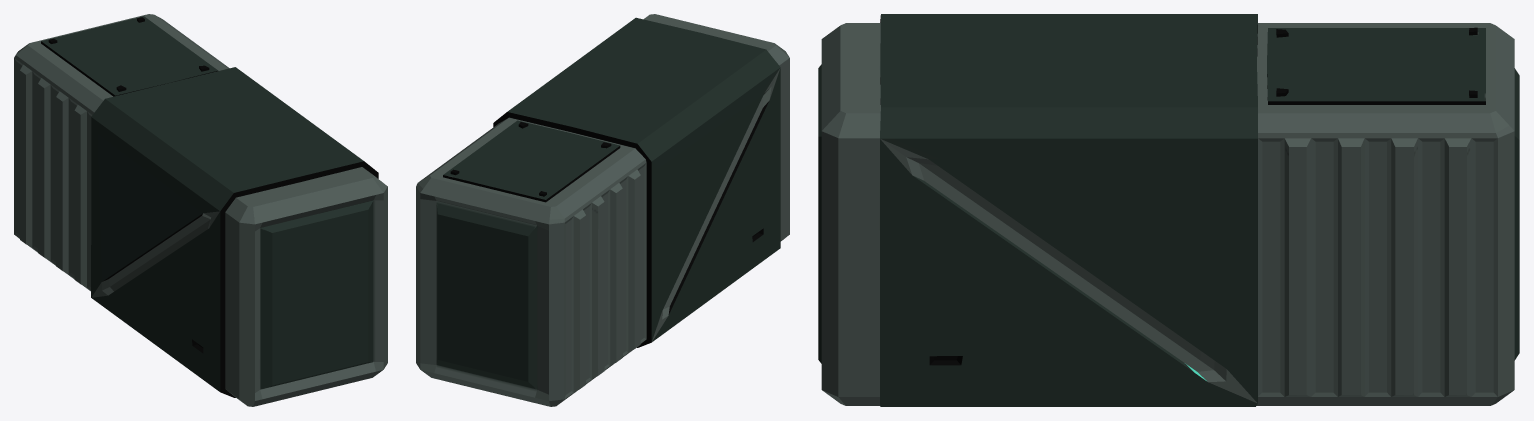
Rendered from BoxContainer.fbx.
The picture shows the model from 3 angles, left to right: view 1: azimuth 30°, elevation 25°; view 2: azimuth 150°, elevation 25°; view 3: azimuth 270°, elevation 25°; orthographic projection. The views are drawn at different scales.
Visible parts, largest first — view 1: BoxContainer; view 2: BoxContainer; view 3: BoxContainer.
Boxes of the visible parts, box(x1,y1,x2,y2) form: BoxContainer: box(14, 14, 387, 406); BoxContainer: box(416, 14, 789, 406); BoxContainer: box(818, 14, 1519, 406).
Size of the model in its own units: 164 by 202 by 427.
